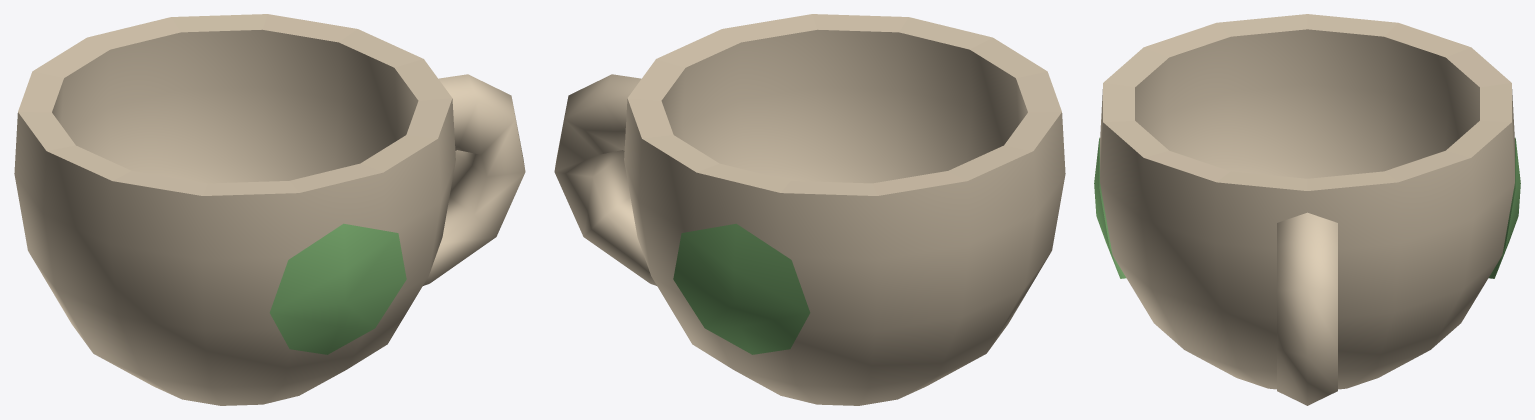
Rendered from Mug_geo.fbx.
The picture shows the model from 3 angles, left to right: view 1: azimuth 30°, elevation 25°; view 2: azimuth 150°, elevation 25°; view 3: azimuth 270°, elevation 25°; orthographic projection. The views are drawn at different scales.
Parts seen in each view (by area): view 1: Mug_geo; view 2: Mug_geo; view 3: Mug_geo.
Part boxes in pixels (x1,y1,x2,y2): Mug_geo: (14,14,525,405); Mug_geo: (554,14,1065,405); Mug_geo: (1094,14,1520,405).
Bounding box in the file's own units: 0.6333 × 0.507 × 0.3298.
